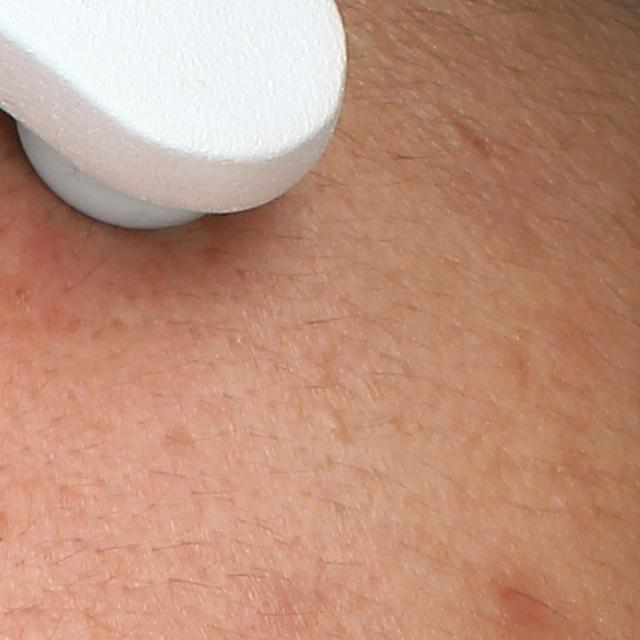atrophic_scar: (156, 420, 203, 460)
comedo: (321, 411, 346, 436)
